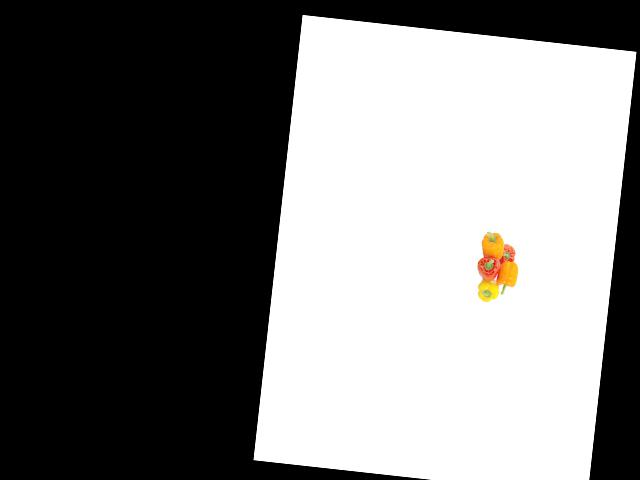bell_pepper: (477, 224, 508, 262)
